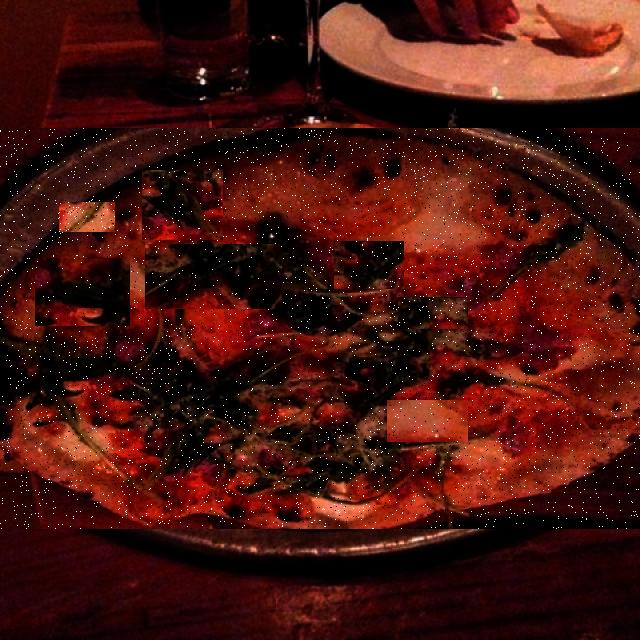Cheese: (387, 400, 468, 442), (59, 202, 115, 232)
Pizza: (0, 128, 640, 529)
Rucola: (185, 351, 400, 408), (145, 244, 282, 309), (36, 258, 132, 326), (261, 157, 364, 215), (142, 170, 223, 240), (334, 241, 404, 289), (398, 297, 468, 329)
